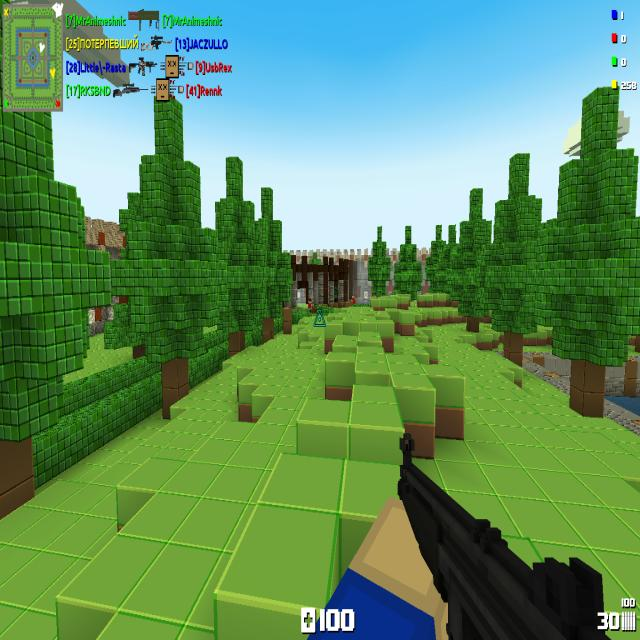enemy: (334, 286, 339, 302), (308, 298, 315, 309), (351, 294, 355, 304)
